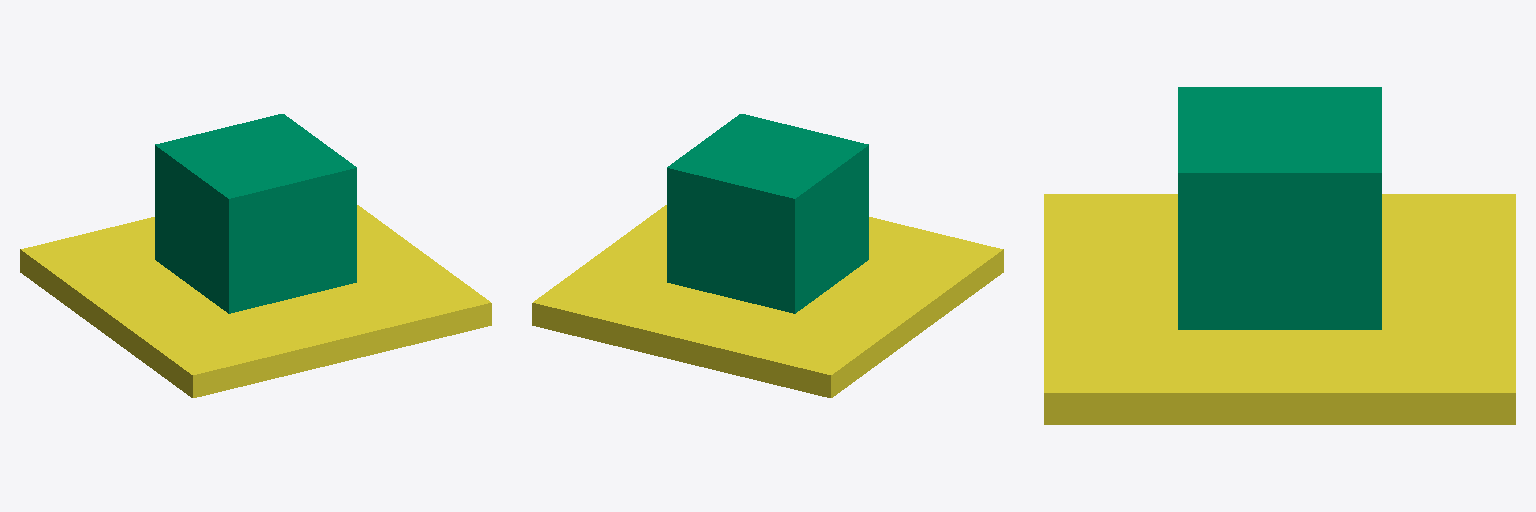
The robot description file, URDF, robot "rs007l_colony":
<?xml version="1.0" ?>
<!-- =================================================================================== -->
<!-- |    This document was autogenerated by xacro from rs007l_gripper.urdf.xacro      | -->
<!-- |    EDITING THIS FILE BY HAND IS NOT RECOMMENDED                                 | -->
<!-- =================================================================================== -->
<robot name="rs007l_colony">
    <material name="White">
        <color rgba="1.0 1.0 1.0 1.0"/>
    </material>
    <material name="Black">
        <color rgba="0.0 0.0 0.0 1.0"/>
    </material>
    <link name="base_link">
        <visual>
          <geometry>
              <mesh filename="RS007L_J0.stl"/>
          </geometry>
          <material name="White"/>
          <origin rpy="0 0 0" xyz="0 0 0"/>
        </visual>
        <collision>
          <geometry>
              <mesh filename="RS007L_J0.stl"/>
          </geometry>
          <material name="White"/>
          <origin rpy="0 0 0" xyz="0 0 0"/>
        </collision>
        <inertial>
          <mass value="11"/>
          <inertia ixx="1.0" ixy="0.0" ixz="0.0" iyy="1.0" iyz="0.0" izz="1.0"/>
        </inertial>
    </link>
    <!-- Link 1 -->
    <joint name="joint1" type="revolute">
        <axis rpy="0 0 0" xyz="0 0 -1"/>
        <limit effort="1000.0" lower="-3.141592653589793" upper="3.141592653589793" velocity="6.457718232379019"/>
        <origin rpy="0 0 0" xyz="0 0 0.36"/>
        <parent link="base_link"/>
        <child link="link1"/>
        <dynamics damping="0.0" friction="0.0"/>
    </joint>
    <link name="link1">
        <visual>
          <geometry>
              <mesh filename="RS007L_J1.stl"/>
          </geometry>
          <material name="White"/>
          <origin rpy="0 0 0" xyz="0 0 0"/>
        </visual>
        <collision>
          <geometry>
              <mesh filename="RS007L_J1.stl"/>
          </geometry>
          <material name="White"/>
          <origin rpy="0 0 0" xyz="0 0 0"/>
        </collision>
        <inertial>
          <mass value="8.188"/>
          <inertia ixx="1.0" ixy="0.0" ixz="0.0" iyy="1.0" iyz="0.0" izz="1.0"/>
        </inertial>
    </link>
    <!-- Link 2 -->
    <joint name="joint2" type="revolute">
        <axis rpy="0 0 0" xyz="0 0 1"/>
        <limit effort="1000.0" lower="-2.356194490192345" upper="2.356194490192345" velocity="5.410520681182422"/>
        <origin rpy="0 -1.5707963267948966 0" xyz="0 0 0.0"/>
        <parent link="link1"/>
        <child link="link2"/>
        <dynamics damping="0.0" friction="0.0"/>
    </joint>
    <link name="link2">
        <visual>
          <geometry>
              <mesh filename="RS007L_J2.stl"/>
          </geometry>
          <material name="White"/>
          <origin rpy="0 1.5707963267948966 0" xyz="0 0 0"/>
        </visual>
        <collision>
          <geometry>
              <mesh filename="RS007L_J2.stl"/>
          </geometry>
          <material name="White"/>
          <origin rpy="0 1.5707963267948966 0" xyz="0 0 0"/>
        </collision>
        <inertial>
          <mass value="6.826"/>
          <inertia ixx="1.0" ixy="0.0" ixz="0.0" iyy="1.0" iyz="0.0" izz="1.0"/>
        </inertial>
    </link>
    <!-- Link 3 -->
    <joint name="joint3" type="revolute">
        <axis rpy="0 0 0" xyz="0 0 -1"/>
        <limit effort="1000.0" lower="-2.7401669256310974" upper="2.7401669256310974" velocity="7.155849933176751"/>
        <origin rpy="0 0 0" xyz="0.455 0 0"/>
        <parent link="link2"/>
        <child link="link3"/>
        <dynamics damping="0.0" friction="0.0"/>
    </joint>
    <link name="link3">
        <visual>
          <geometry>
              <mesh filename="RS007L_J3.stl"/>
          </geometry>
          <material name="White"/>
          <origin rpy="0 1.5707963267948966 0" xyz="0 0 0"/>
        </visual>
        <collision>
          <geometry>
              <mesh filename="RS007L_J3.stl"/>
          </geometry>
          <material name="White"/>
          <origin rpy="0 1.5707963267948966 0" xyz="0 0 0"/>
        </collision>
        <inertial>
          <mass value="5.236"/>
          <inertia ixx="1.0" ixy="0.0" ixz="0.0" iyy="1.0" iyz="0.0" izz="1.0"/>
        </inertial>
    </link>
    <!-- Link 4 -->
    <joint name="joint4" type="revolute">
        <axis rpy="0 0 0" xyz="0 0 1"/>
        <limit effort="1000.0" lower="-3.490658503988659" upper="3.490658503988659" velocity="9.599310885968812"/>
        <origin rpy="0 1.5707963267948966 0" xyz="0.0925 0 0"/>
        <parent link="link3"/>
        <child link="link4"/>
        <dynamics damping="0.0" friction="0.0"/>
    </joint>
    <link name="link4">
        <visual>
          <geometry>
              <mesh filename="RS007L_J4.stl"/>
          </geometry>
          <material name="White"/>
          <origin rpy="0 0 0" xyz="0 0 0.3825"/>
        </visual>
        <collision>
          <geometry>
              <mesh filename="RS007L_J4.stl"/>
          </geometry>
          <material name="White"/>
          <origin rpy="0 0 0" xyz="0 0 0.3825"/>
        </collision>
        <inertial>
          <mass value="5.066"/>
          <inertia ixx="1.0" ixy="0.0" ixz="0.0" iyy="1.0" iyz="0.0" izz="1.0"/>
        </inertial>
    </link>
    <!-- Link 5 -->
    <joint name="joint5" type="revolute">
        <axis rpy="0 0 0" xyz="0 0 -1"/>
        <limit effort="1000.0" lower="-2.181661564992912" upper="2.181661564992912" velocity="9.599310885968812"/>
        <origin rpy="0 -1.5707963267948966 0" xyz="0 0 0.3825"/>
        <parent link="link4"/>
        <child link="link5"/>
        <dynamics damping="0.0" friction="0.0"/>
    </joint>
    <link name="link5">
        <visual>
          <geometry>
              <mesh filename="RS007L_J5.stl"/>
          </geometry>
          <material name="White"/>
          <origin rpy="0 1.5707963267948966 0" xyz="0 0 0"/>
        </visual>
        <collision>
          <geometry>
              <mesh filename="RS007L_J5.stl"/>
          </geometry>
          <material name="White"/>
          <origin rpy="0 1.5707963267948966 0" xyz="0 0 0"/>
        </collision>
        <inertial>
          <mass value="1.625"/>
          <inertia ixx="1.0" ixy="0.0" ixz="0.0" iyy="1.0" iyz="0.0" izz="1.0"/>
        </inertial>
    </link>
    <!-- Link 6 -->
    <joint name="joint6" type="revolute">
        <axis rpy="0 0 0" xyz="0 0 1"/>
        <limit effort="1000.0" lower="-6.283185307179586" upper="6.283185307179586" velocity="17.453292519943297"/>
        <origin rpy="0 1.5707963267948966 0" xyz="0.078 0 0"/>
        <parent link="link5"/>
        <child link="link6"/>
        <dynamics damping="0.0" friction="0.0"/>
    </joint>
    <link name="link6">
        <visual>
          <geometry>
              <mesh filename="RS007L_J6.stl"/>
          </geometry>
          <material name="Black"/>
          <origin rpy="0 0 0" xyz="0 0 0"/>
        </visual>
        <collision>
          <geometry>
              <mesh filename="RS007L_J6.stl"/>
          </geometry>
          <material name="Black"/>
          <origin rpy="0 0 0" xyz="0 0 0"/>
        </collision>
        <inertial>
          <mass value="0.625"/>
          <inertia ixx="1.0" ixy="0.0" ixz="0.0" iyy="1.0" iyz="0.0" izz="1.0"/>
        </inertial>
    </link>
    <joint name="ee_fixed_joint" type="fixed">
        <parent link="link6"/>
        <child link="ee_link"/>
        <origin rpy="0.0 0.0 1.57079632679" xyz="0.0 0.1 0.0"/>
    </joint>
    <link name="ee_link">
        <collision>
            <geometry>
                <box size="0.01 0.01 0.01"/>
            </geometry>
            <origin rpy="0 0 0" xyz="-0.01 0 0"/>
        </collision>
    </link>
    <transmission name="joint1_trans">
        <type>transmission_interface/SimpleTransmission</type>
        <actuator name="joint1_motor">
          <hardwareInterface>hardware_interface/PositionJointInterface</hardwareInterface>
          <mechanicalReduction>1</mechanicalReduction>
        </actuator>
        <joint name="joint1">
          <hardwareInterface>hardware_interface/PositionJointInterface</hardwareInterface>
        </joint>
    </transmission>
    <transmission name="joint2_trans">
        <type>transmission_interface/SimpleTransmission</type>
        <actuator name="joint2_motor">
          <hardwareInterface>hardware_interface/PositionJointInterface</hardwareInterface>
          <mechanicalReduction>1</mechanicalReduction>
        </actuator>
        <joint name="joint2">
          <hardwareInterface>hardware_interface/PositionJointInterface</hardwareInterface>
        </joint>
    </transmission>
    <transmission name="joint3_trans">
        <type>transmission_interface/SimpleTransmission</type>
        <actuator name="joint3_motor">
          <hardwareInterface>hardware_interface/PositionJointInterface</hardwareInterface>
          <mechanicalReduction>1</mechanicalReduction>
        </actuator>
        <joint name="joint3">
          <hardwareInterface>hardware_interface/PositionJointInterface</hardwareInterface>
        </joint>
    </transmission>
    <transmission name="joint4_trans">
        <type>transmission_interface/SimpleTransmission</type>
        <actuator name="joint4_motor">
          <hardwareInterface>hardware_interface/PositionJointInterface</hardwareInterface>
          <mechanicalReduction>1</mechanicalReduction>
        </actuator>
        <joint name="joint4">
          <hardwareInterface>hardware_interface/PositionJointInterface</hardwareInterface>
        </joint>
    </transmission>
    <transmission name="joint5_trans">
        <type>transmission_interface/SimpleTransmission</type>
        <actuator name="joint5_motor">
          <hardwareInterface>hardware_interface/PositionJointInterface</hardwareInterface>
          <mechanicalReduction>1</mechanicalReduction>
        </actuator>
        <joint name="joint5">
          <hardwareInterface>hardware_interface/PositionJointInterface</hardwareInterface>
        </joint>
    </transmission>
    <transmission name="joint6_trans">
        <type>transmission_interface/SimpleTransmission</type>
        <actuator name="joint6_motor">
          <hardwareInterface>hardware_interface/PositionJointInterface</hardwareInterface>
          <mechanicalReduction>1</mechanicalReduction>
        </actuator>
        <joint name="joint6">
          <hardwareInterface>hardware_interface/PositionJointInterface</hardwareInterface>
        </joint>
    </transmission>
    <!-- ROS base_link to UR 'Base' Coordinates transform -->
    <link name="base"/>
    <joint name="base-base_link_fixed_joint" type="fixed">
        <!-- NOTE: this rotation is only needed as long as base_link itself is
                     not corrected wrt the real robot (ie: rotated over 180
                     degrees)
          -->
        <origin rpy="0 0 0" xyz="0 0 0.3349625"/>
        <parent link="base"/>
        <child link="base_link"/>
    </joint>
    <!-- Frame coincident with all-zeros TCP on UR controller -->
    <link name="tool0"/>
    <joint name="link6-tool0_fixed_joint" type="fixed">
        <!-- <origin rpy="-1.57079632679 0 0" xyz="0 0.1 0"/> -->
        <origin rpy="0 0 0" xyz="0 0 0"/>
        <parent link="link6"/>
        <child link="tool0"/>
    </joint>
    <link name="robot_base">
        <inertial>
          <origin xyz="0.0 0.0 0.193675" />
          <mass value="1.0" />
          <inertia  ixx="1.0" ixy="0.0"  ixz="0.0"  iyy="100.0"  iyz="0.0"  izz="1.0" />
        </inertial>
        <visual>
          <origin xyz="0.0 0.0 0.193675" />
          <geometry>
                  <!-- <box size="0.5334 0.5334 0.26" /> -->
                <box size="0.3048 0.3048 0.26" />
          </geometry>
        </visual>
        <collision>
          <origin xyz="0.0 0.0 0.193675" />
          <geometry>
            <!-- <box size="0.5334 0.5334 0.26" /> -->
                <box size="0.3048 0.3048 0.26" />
          </geometry>
        </collision>
    </link>
    <link name="robot_plate">
        <inertial>
          <origin xyz="0.0 0.0 0.02619375" />
          <mass value="1.0" />
          <inertia  ixx="1.0" ixy="0.0"  ixz="0.0"  iyy="100.0"  iyz="0.0"  izz="1.0" />
        </inertial>
        <visual>
          <origin xyz="0.0 0.0 0.02619375" />
          <geometry>
            <box size="0.708025 0.7069125 0.0523875" />
          </geometry>
        </visual>
        <collision>
          <origin xyz="0.0 0.0 0.02619375" />
          <geometry>
            <box size="0.708025 0.7069125 0.0523875" />
          </geometry>
        </collision>
    </link>
    <joint name="robot_base_joint" type="fixed">
        <parent link="robot_base"/>
        <child link="base"/>
        <origin rpy="0.0 0.0 0.0" xyz="0.0 0.0 0.0"/>
    </joint>
    <joint name="robot_plate_base_joint" type="fixed">
        <parent link="robot_plate"/>
        <child link="robot_base"/>
        <origin rpy="0.0 0.0 0.0" xyz="0.0 0.0 0.0"/>
    </joint>
    <link name="world"/>
    <joint name="world_robot_plate_joint" type="fixed">
        <parent link="world"/>
        <child link="robot_plate"/>
        <origin rpy="0.0 0.0 0.0" xyz="0.0 0.0 0.0"/>
    </joint>
</robot>

--- Render facts (derived) ---
Views: 3 orthographic renders of the robot side by side, from view 1: azimuth 30°, elevation 25°; view 2: azimuth 150°, elevation 25°; view 3: azimuth 270°, elevation 25°.
Model rs007l_colony with 13 links and 12 joints (6 revolute, 6 fixed), rooted at world, posed every joint at zero.
Visible links, largest first — view 1: robot_plate, robot_base; view 2: robot_plate, robot_base; view 3: robot_plate, robot_base.
Boxes of the visible links, bbox=[...] form: robot_plate: bbox=[20, 205, 491, 397]; robot_base: bbox=[155, 114, 356, 313]; robot_plate: bbox=[532, 205, 1003, 397]; robot_base: bbox=[667, 114, 868, 313]; robot_plate: bbox=[1044, 194, 1515, 424]; robot_base: bbox=[1178, 87, 1381, 329].
Size in the robot's own frame: 0.708 by 0.7069 by 0.3237 metres.
0 mesh visuals loaded from 7 distinct referenced files (none loaded); not drawn: 7 (reference not matched to a file when rendering).